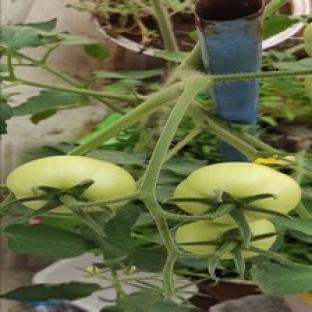Tomato: (175, 162, 300, 214), (7, 156, 136, 200), (176, 221, 231, 256), (304, 23, 311, 55), (306, 76, 311, 98)
